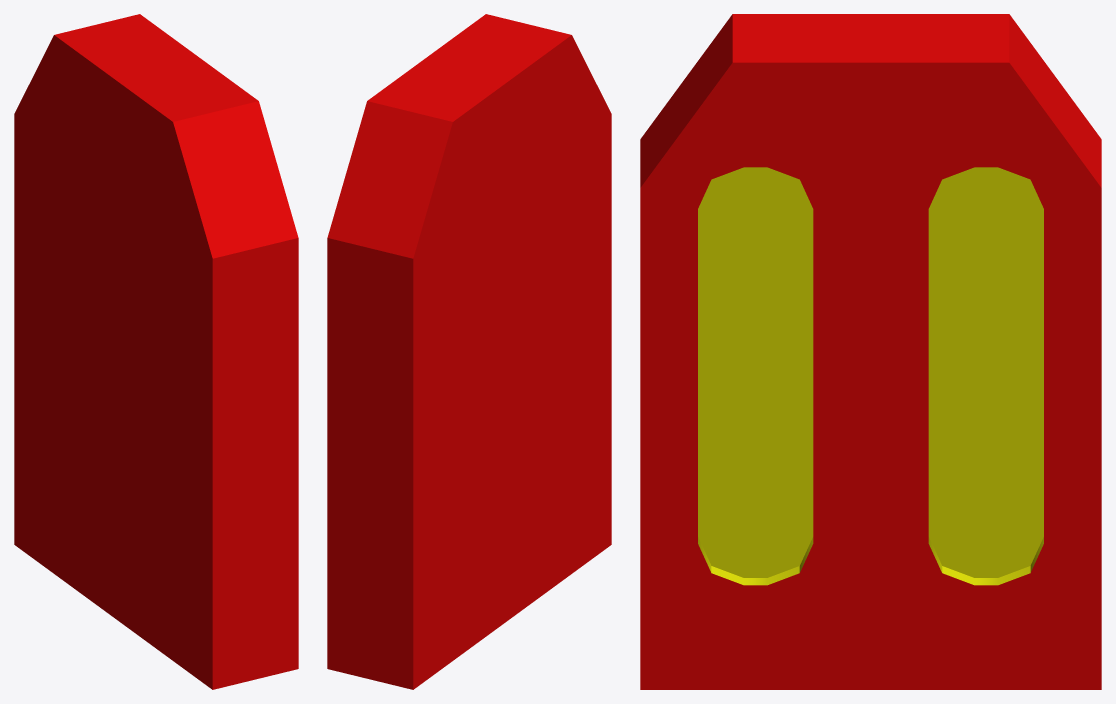
The model's file is WallLightB_SM.fbx.
3 views of the same model, side by side, from view 1: azimuth 30°, elevation 25°; view 2: azimuth 150°, elevation 25°; view 3: azimuth 270°, elevation 25° (orthographic). The views are drawn at different scales.
Parts seen in each view (by area): view 1: polySurface6; view 2: polySurface6; view 3: polySurface6.
Boxes of the visible parts, x1,y1,x2,y2 form: polySurface6: [14, 14, 298, 689]; polySurface6: [327, 14, 611, 689]; polySurface6: [640, 14, 1101, 689].
Bounding box in the file's own units: 0.5 × 3 × 2.
